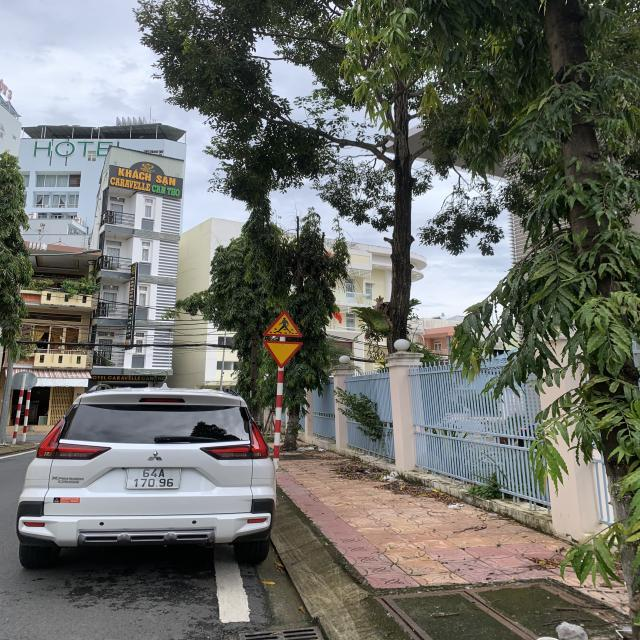Duong_Nguoi_Di_Bo_Sang_Ngang: (263, 310, 301, 337)
Gioi_Han_Toc_Do_25: (262, 340, 302, 366)
